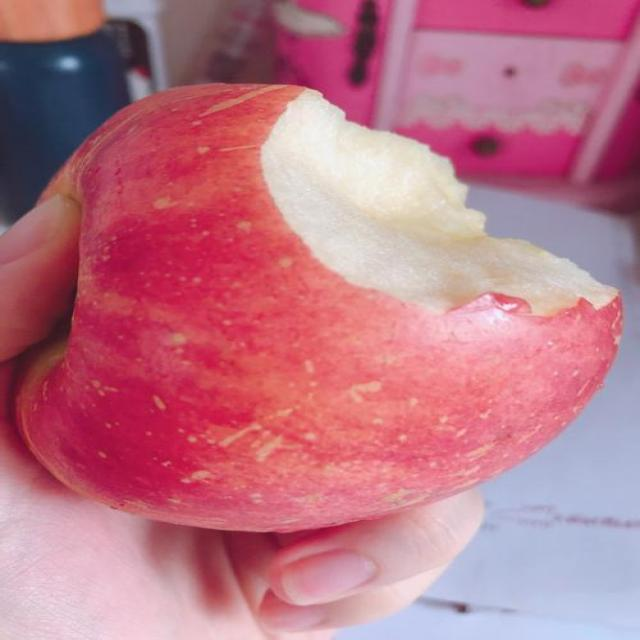Rotten: (58, 80, 600, 523)
